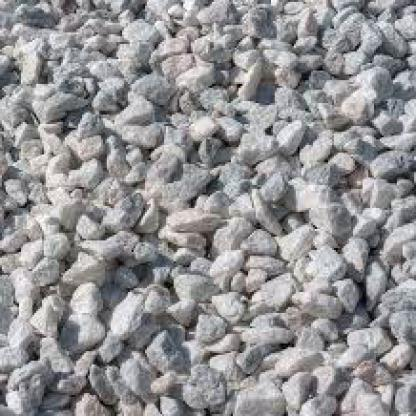Metamorphic_Marble: (107, 284, 166, 336), (269, 334, 328, 385), (166, 198, 229, 236), (313, 195, 357, 246), (57, 284, 107, 326), (307, 238, 349, 283), (235, 222, 282, 260), (145, 328, 187, 370)
